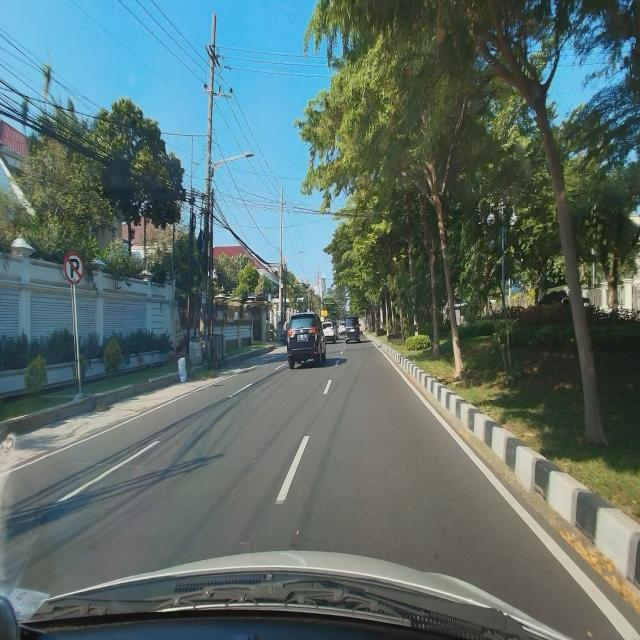car: (286, 312, 326, 369)
license-plate: (298, 334, 307, 341)
